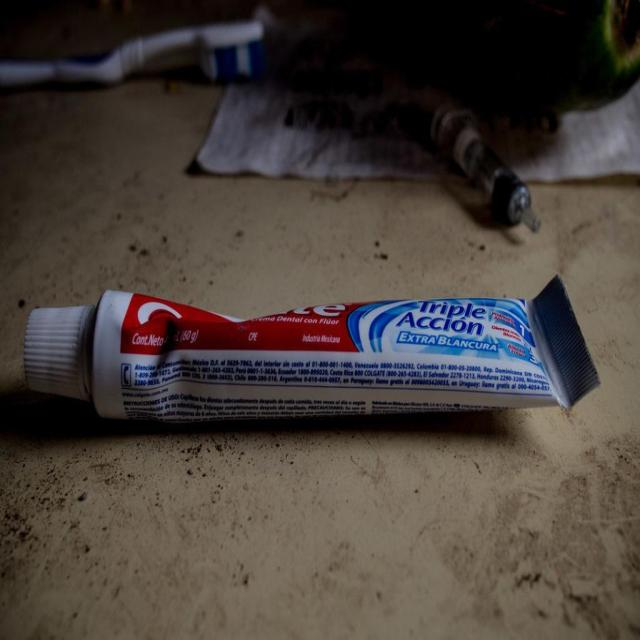Toothpaste: (19, 274, 604, 426)
